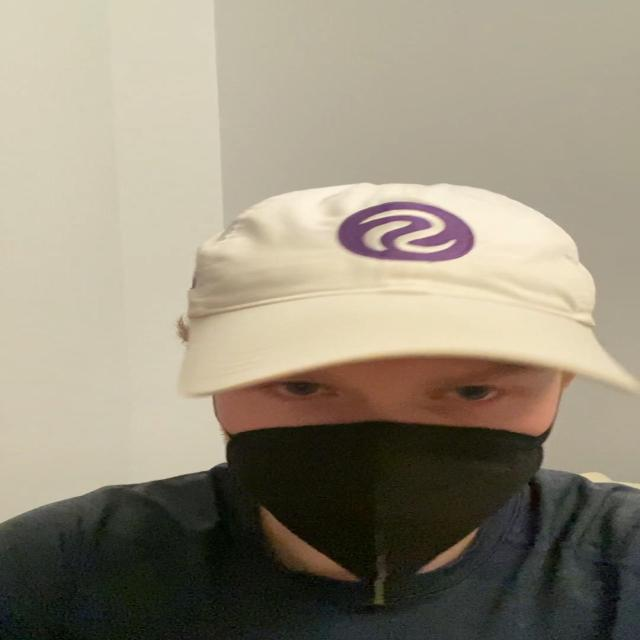no-helmet: (209, 358, 584, 592)
